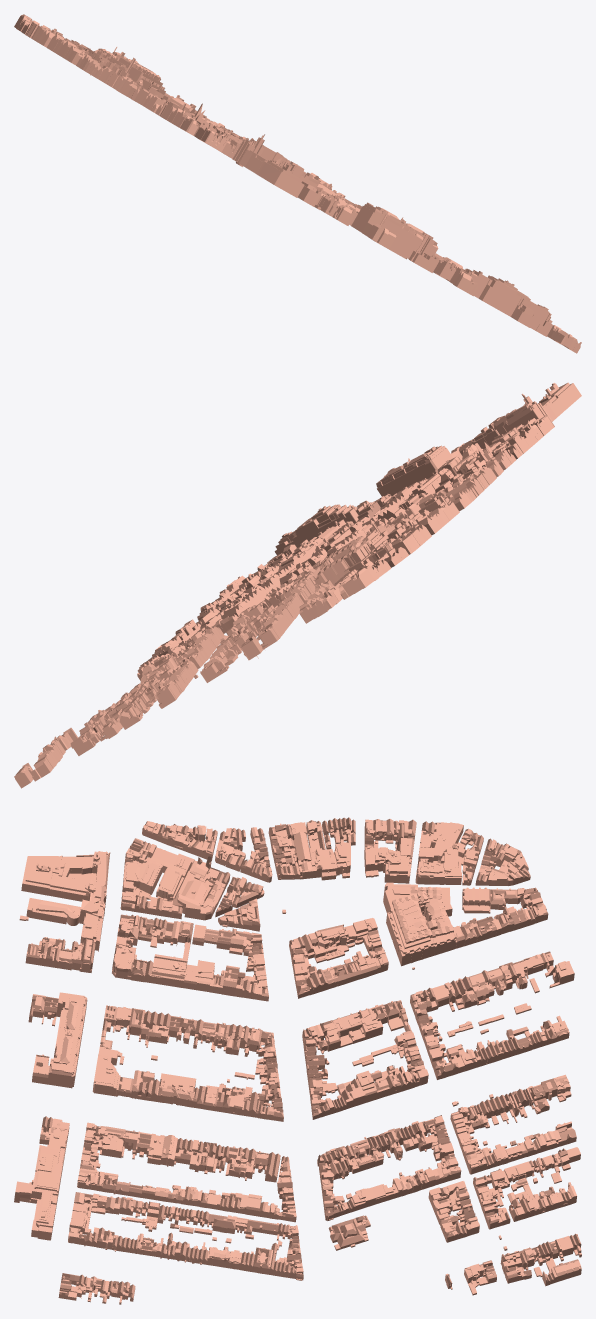
3 views of the same model, one above another, from view 1: azimuth 30°, elevation 25°; view 2: azimuth 150°, elevation 25°; view 3: azimuth 270°, elevation 25° (orthographic). The views are drawn at different scales.
Bounding box in the file's own units: 1.65e+07 × 1.26e+07 × 2.1e+07.
